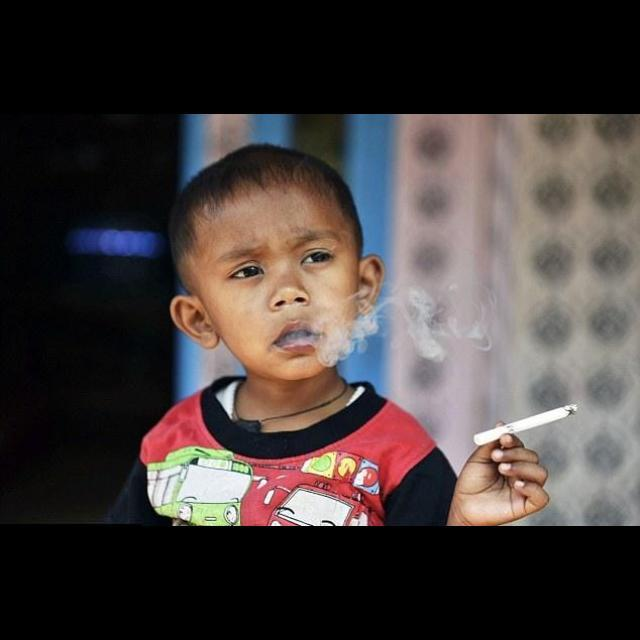rokok: (470, 400, 584, 446)
